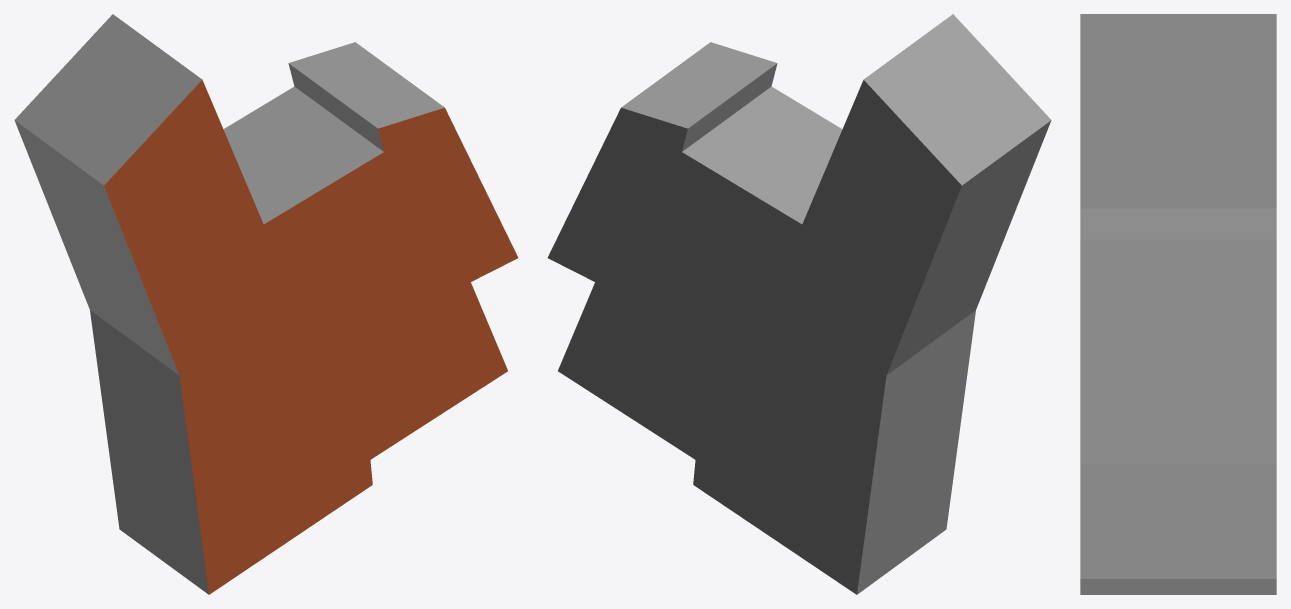
The model's file is construction_0889_assumed_A_Casa_h6m.obj.
The picture shows the model from 3 angles, left to right: view 1: azimuth 30°, elevation 25°; view 2: azimuth 150°, elevation 25°; view 3: azimuth 270°, elevation 25°; orthographic projection. The views are drawn at different scales.
Visible parts, largest first — view 1: construction_0889_assumed_A_Casa; view 2: construction_0889_assumed_A_Casa; view 3: construction_0889_assumed_A_Casa.
Boxes of the visible parts, x1,y1,x2,y2 form: construction_0889_assumed_A_Casa: [14, 14, 518, 594]; construction_0889_assumed_A_Casa: [547, 14, 1051, 594]; construction_0889_assumed_A_Casa: [1080, 14, 1276, 594].
Size of the model in its own units: 16.03 by 19.1 by 6.
